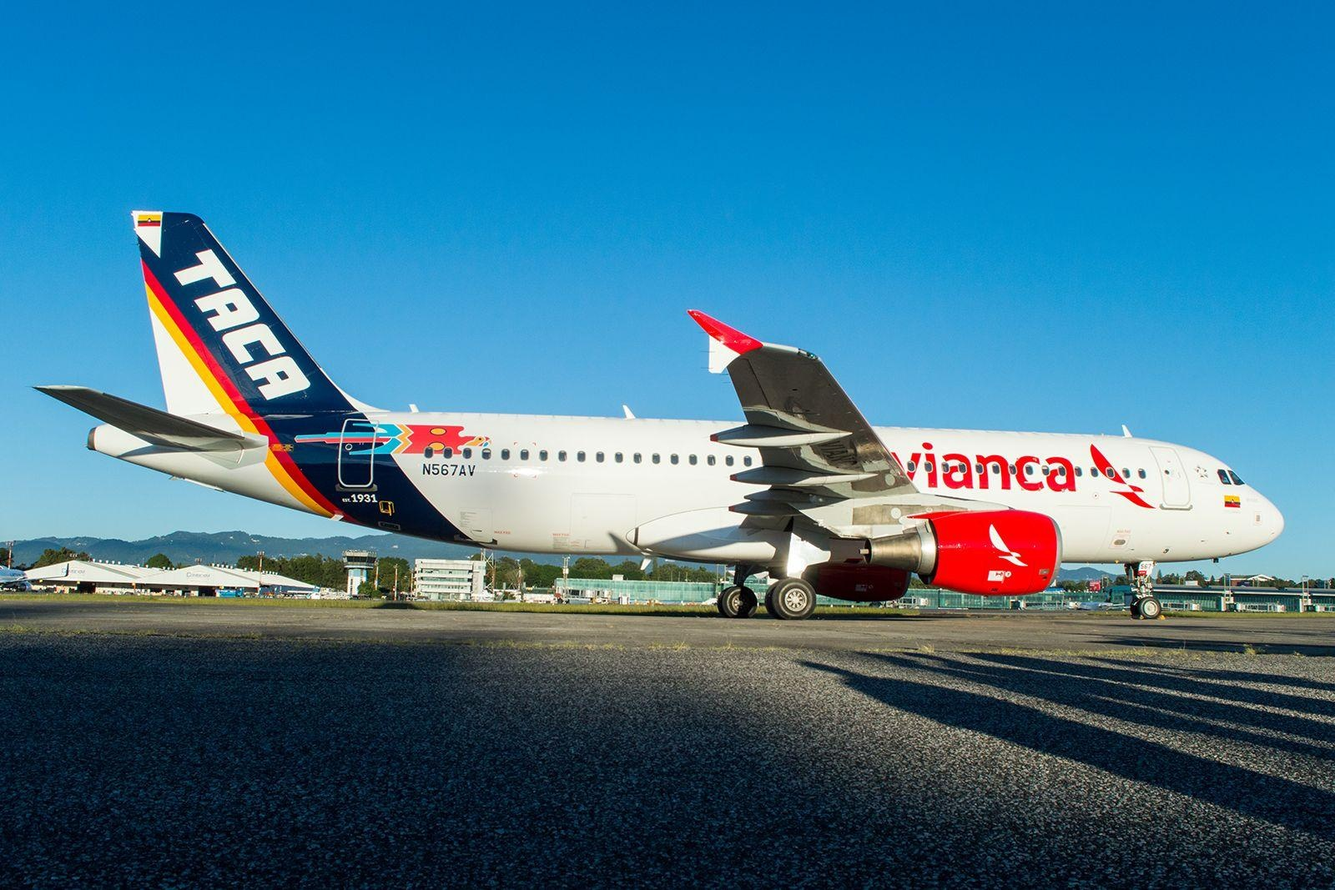aircraft: (34, 208, 1275, 622), (20, 546, 325, 601)
